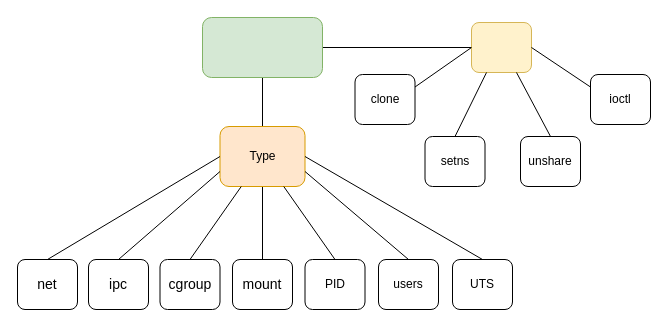
This 668x327 diagram has some shape labels left out. Here are the shapes that lost their labels. From the top down, the box of each, then its label:
(202, 16, 322, 78): LInux Namespace
(470, 22, 532, 72): API
